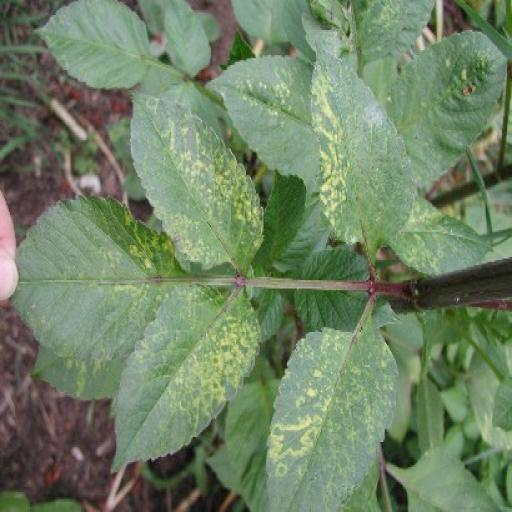Mosaic Virus: (108, 284, 262, 474), (262, 310, 398, 507), (126, 88, 262, 274), (304, 47, 412, 272)
